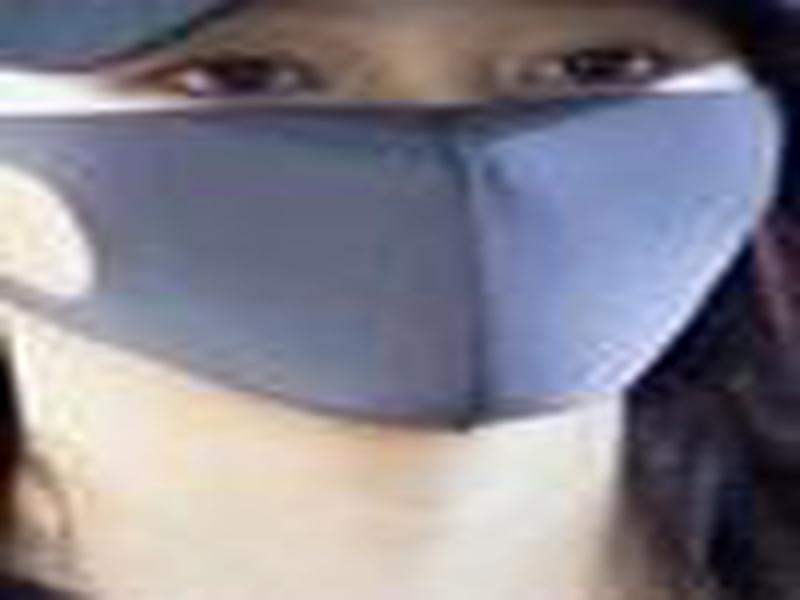with_mask: (1, 1, 788, 432)
